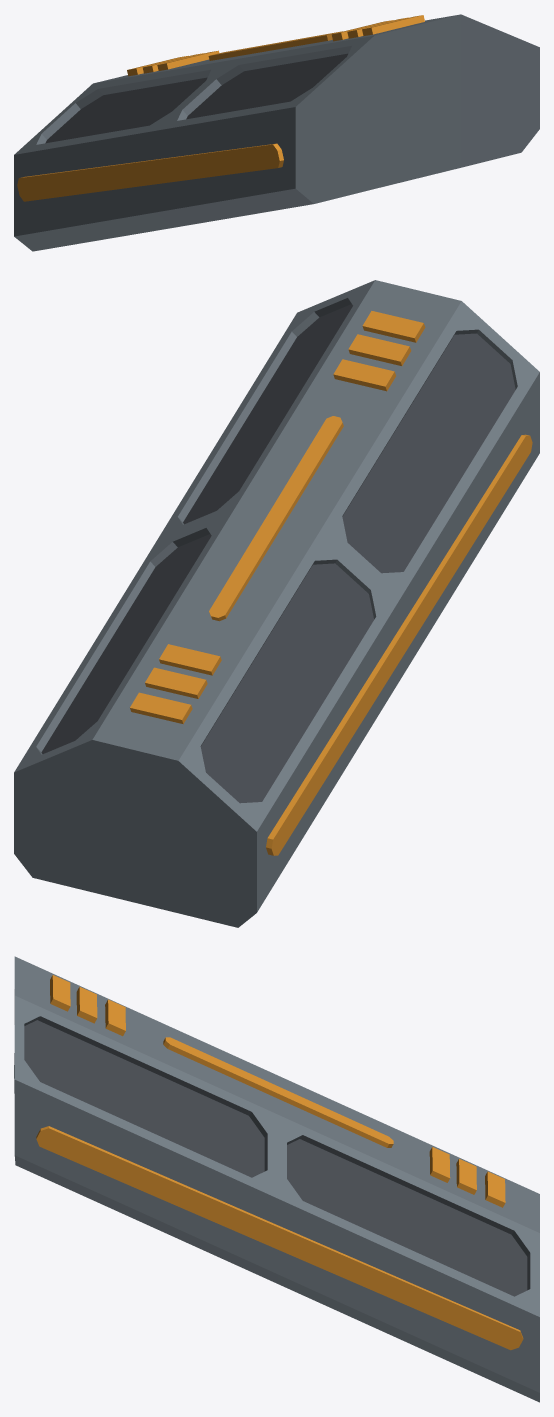
The model's file is SM_Roof_ventilation_lifting.glb.
3 renders of one model, top to bottom at view 1: azimuth 30°, elevation 25°; view 2: azimuth 150°, elevation 25°; view 3: azimuth 270°, elevation 25°, orthographic. The views are drawn at different scales.
Parts seen in each view (by area): view 1: SM_Roof_ventilation_lifting; view 2: SM_Roof_ventilation_lifting; view 3: SM_Roof_ventilation_lifting.
Part boxes in pixels (x1=…): SM_Roof_ventilation_lifting: x1=14, y1=14, x2=539, y2=251; SM_Roof_ventilation_lifting: x1=14, y1=280, x2=539, y2=927; SM_Roof_ventilation_lifting: x1=14, y1=956, x2=539, y2=1402.
Size of the model in its own units: 0.519 by 0.8 by 1.01.
Materials: 1 (1 with a texture image).
